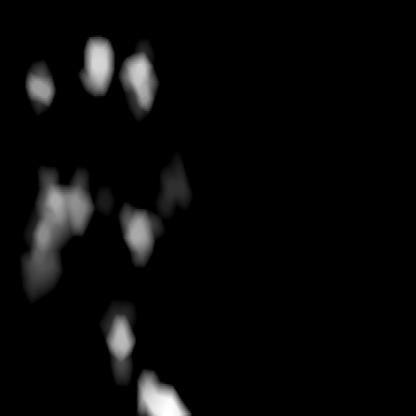fingers: (136, 370, 185, 414)
palm: (24, 39, 156, 106)
thumb: (32, 180, 153, 357)
